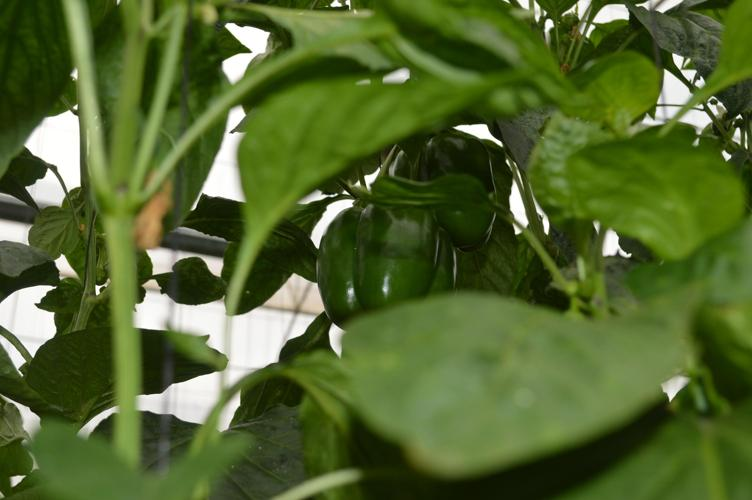BellPepper: (308, 203, 457, 319)
